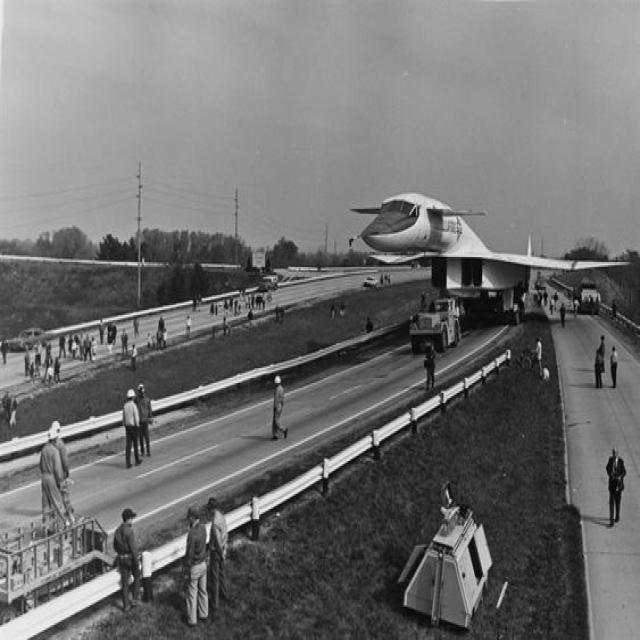MIL_Plane: (348, 190, 631, 326)
